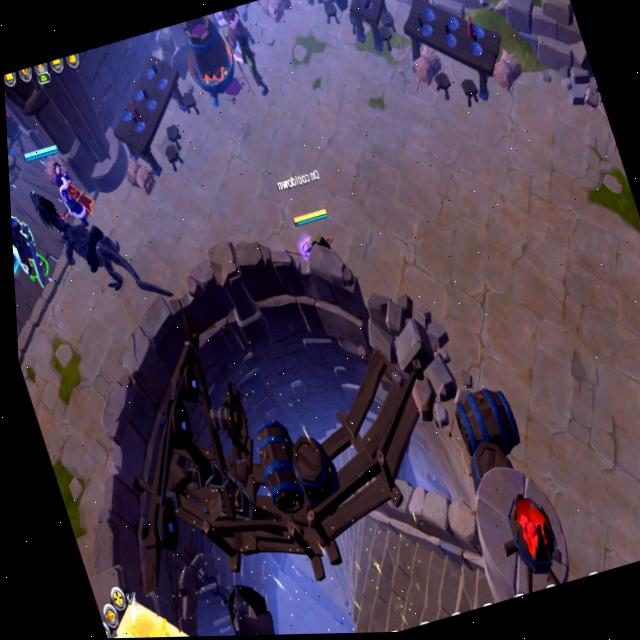ore: (216, 18, 274, 105), (212, 3, 260, 57)
red: (14, 125, 105, 243), (288, 201, 347, 272), (9, 179, 44, 282)
